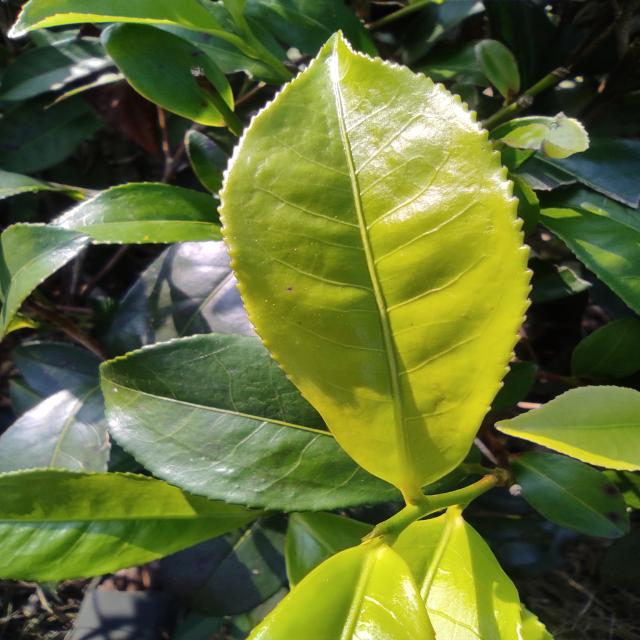Category B(2-4 days): (193, 15, 559, 527)
